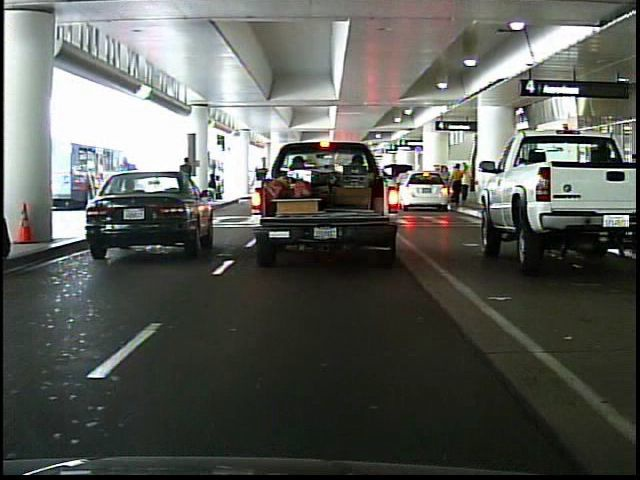person: (176, 154, 199, 212)
